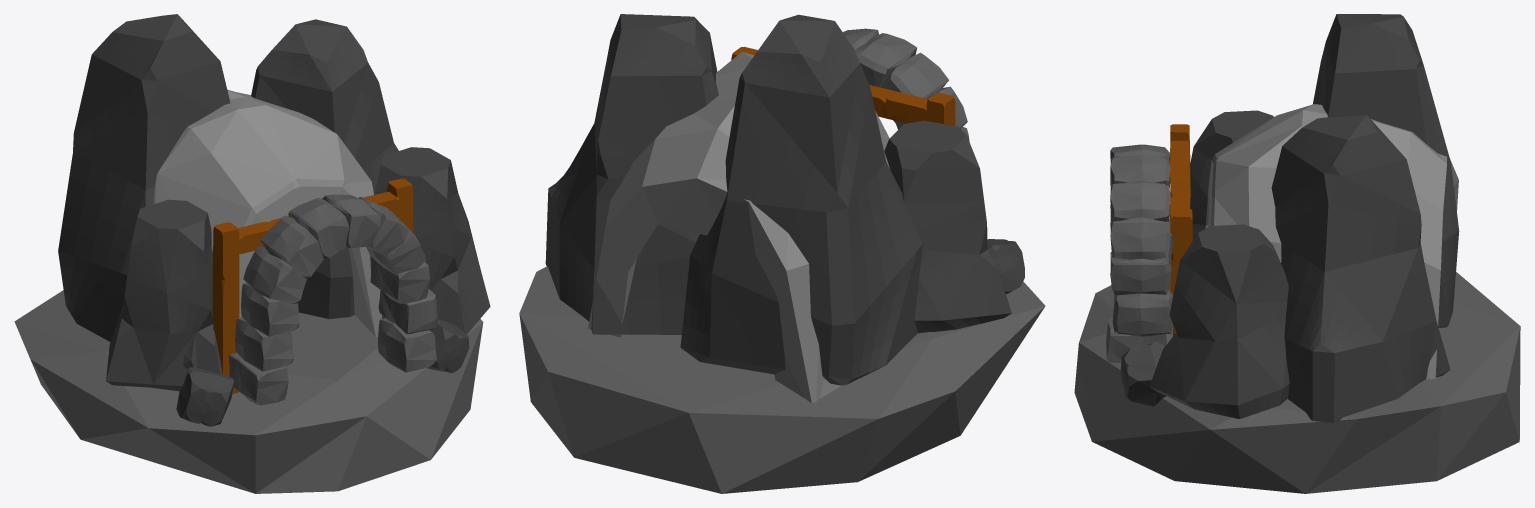
Rendered from MineEntrance.fbx.
The picture shows the model from 3 angles, left to right: view 1: azimuth 30°, elevation 25°; view 2: azimuth 150°, elevation 25°; view 3: azimuth 270°, elevation 25°; orthographic projection. The views are drawn at different scales.
Visible parts, largest first — view 1: mine_entrance; view 2: mine_entrance; view 3: mine_entrance.
Part boxes in pixels (x1,y1,x2,y2): mine_entrance: [14, 14, 490, 493]; mine_entrance: [519, 14, 1045, 493]; mine_entrance: [1074, 14, 1520, 493].
Size of the model in its own units: 1.97 by 1.79 by 1.98.
